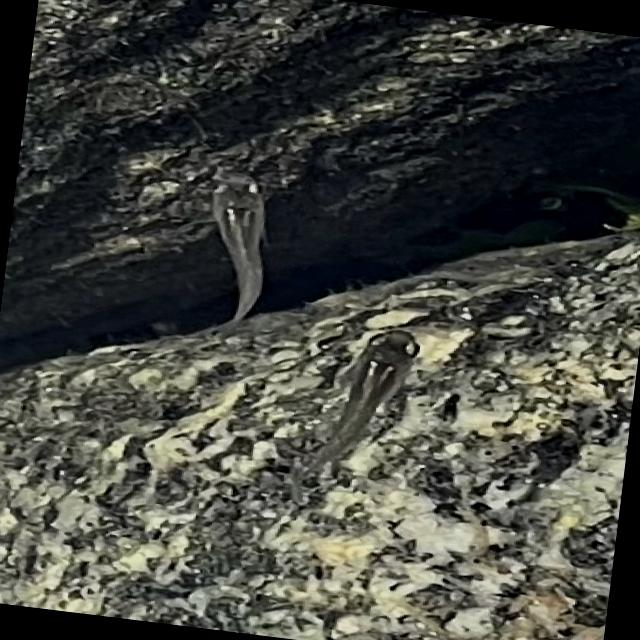Sivrisinek Baligi: (276, 314, 424, 516), (180, 167, 282, 328)
